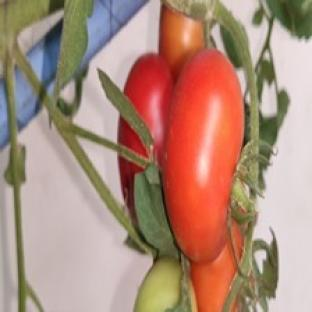Tomato: (163, 49, 243, 261), (124, 53, 174, 162), (191, 234, 236, 311), (159, 5, 204, 79), (134, 257, 182, 311)
